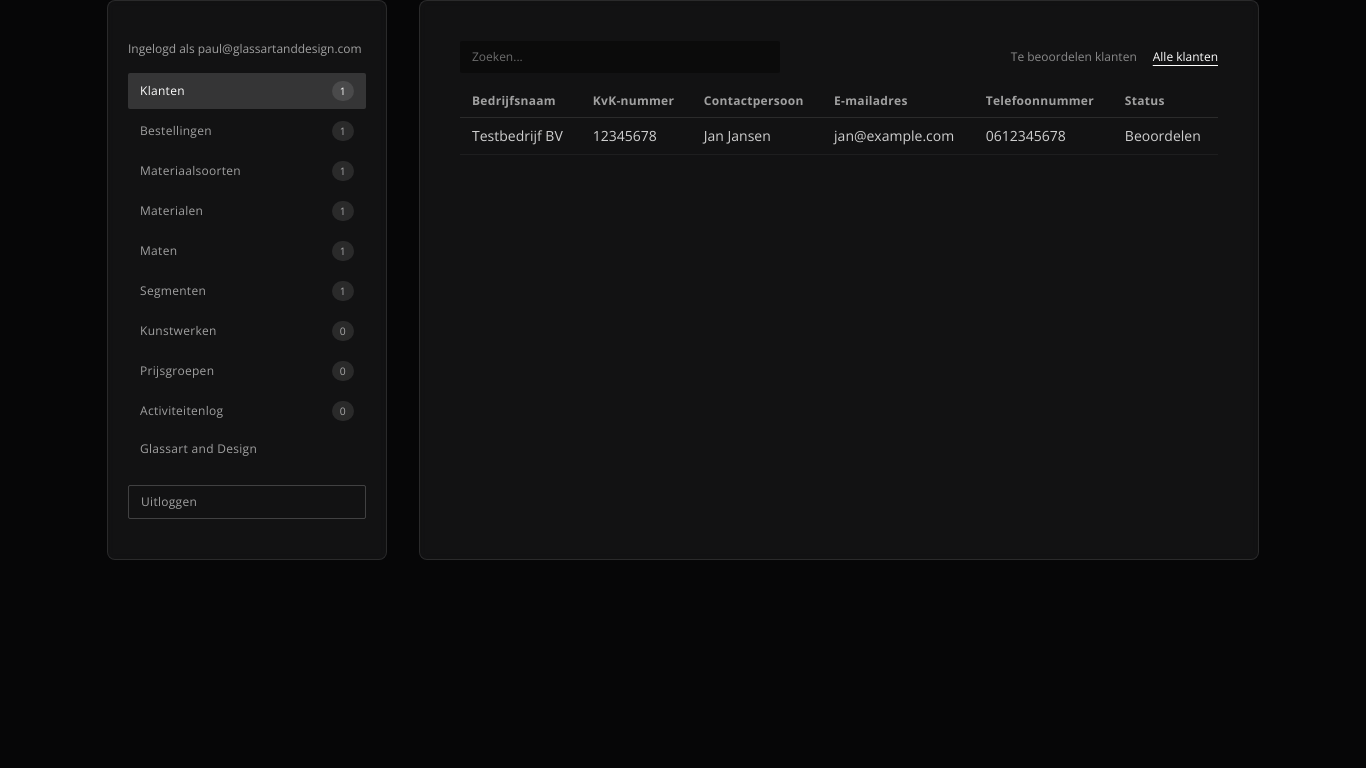
Test: BeheerShell › shows the bestellingen count and switches to the Bestellingen section
What coordinates should you click on to do the following:
click the button with test id "beheer-nav-bestellingen"
I would click on:
 (247, 131)
Its box is [128, 113, 366, 149].
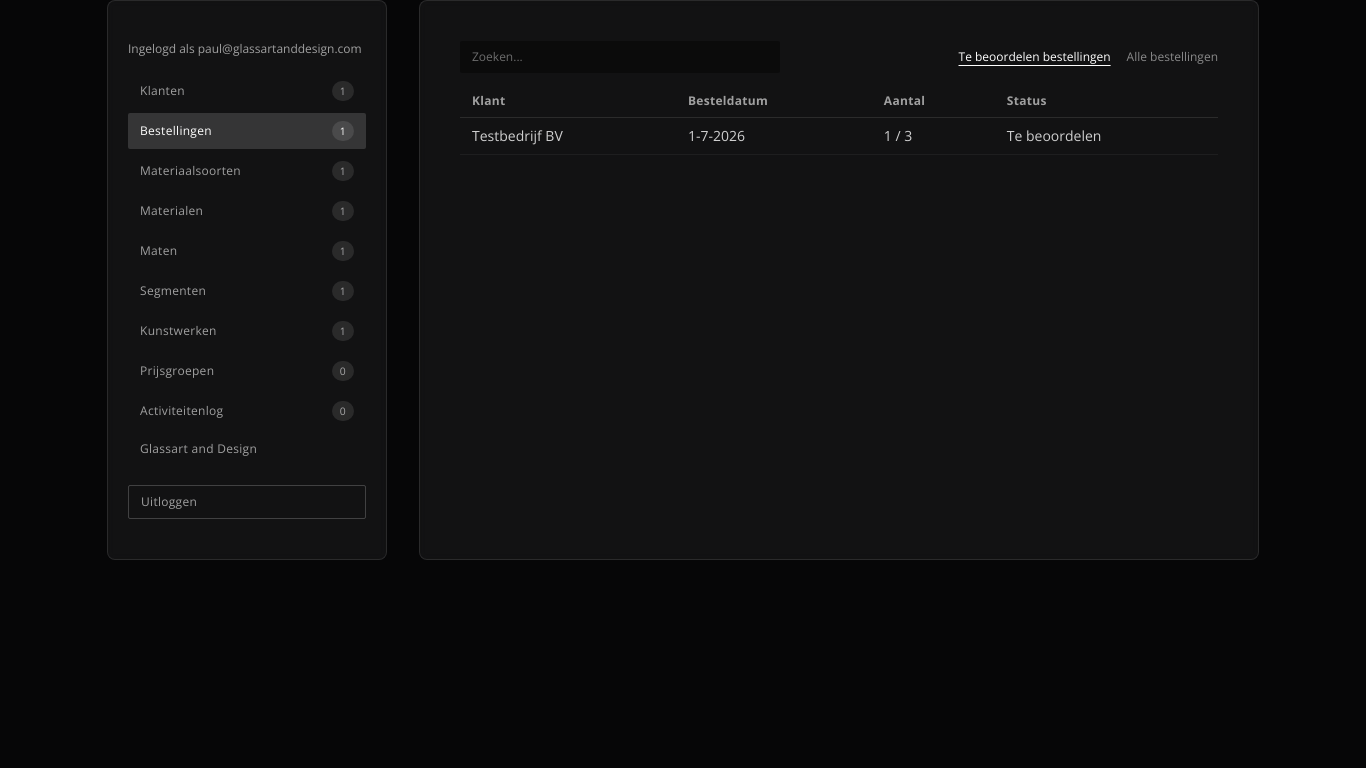
Expected: the row with test id "data-table-row-header-1" shows "Testbedrijf BV", [472, 126, 563, 145]
Now the element with test id "bestellingen-section" is shown, box [460, 41, 1218, 155]
What coordinates should you click on to do the following:
click the row with test id "data-table-row-header-1"
I would click on:
 (839, 136)
Its box is [460, 118, 1218, 154].
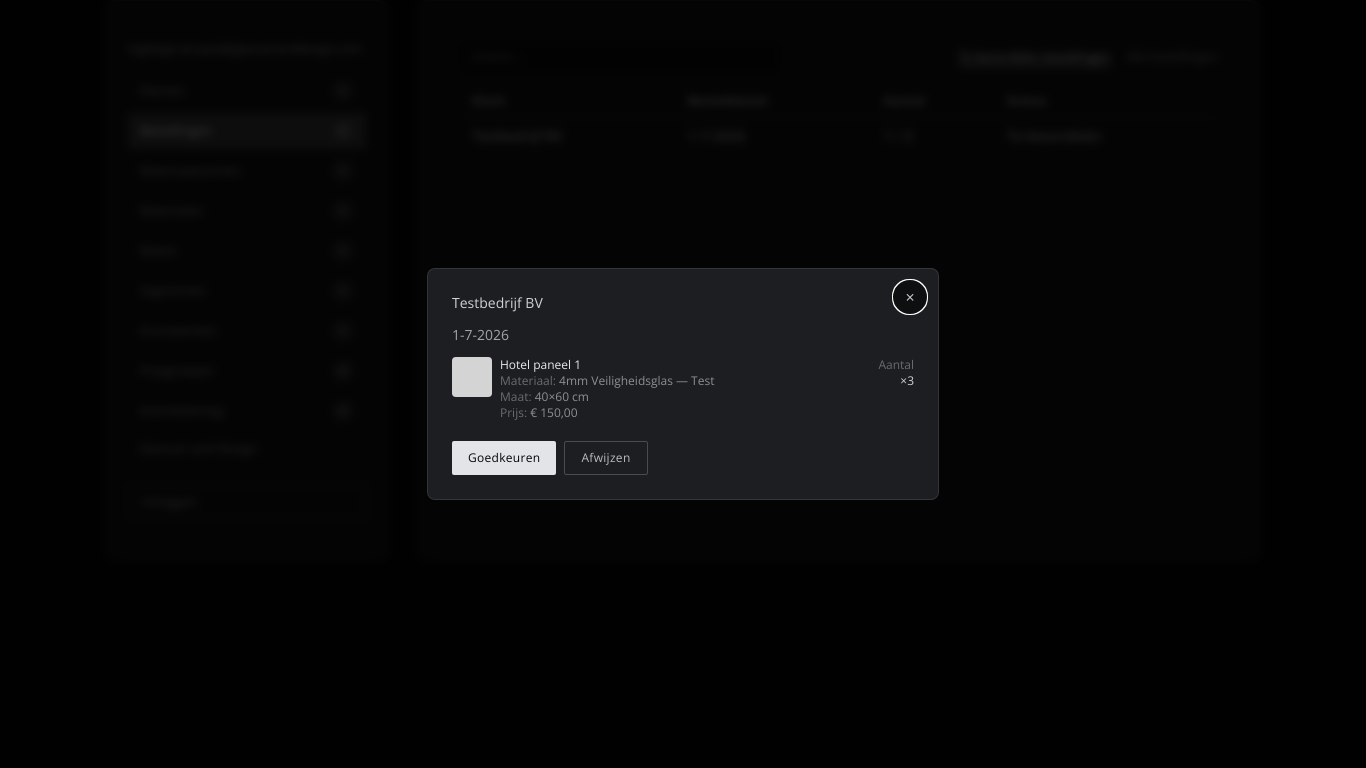
Now the element with test id "bestelling-modal" shows "Hotel paneel", box [500, 356, 581, 373]
